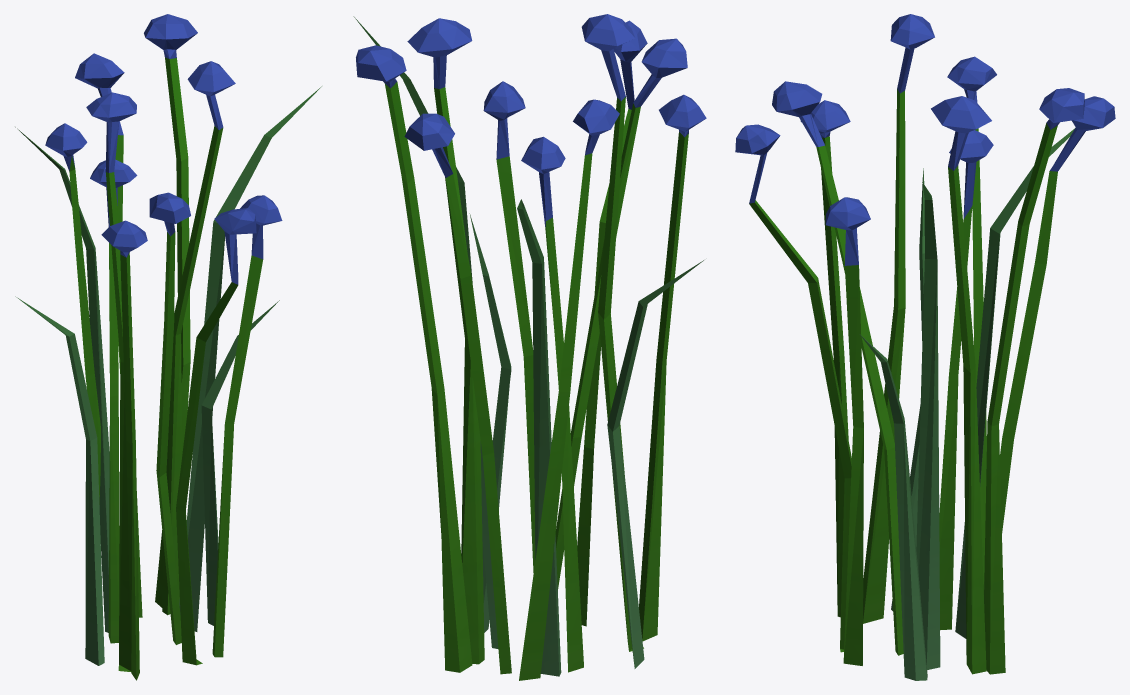
The model's file is flower_blue.glb.
The picture shows the model from 3 angles, left to right: view 1: azimuth 30°, elevation 25°; view 2: azimuth 150°, elevation 25°; view 3: azimuth 270°, elevation 25°; orthographic projection. The views are drawn at different scales.
Parts seen in each view (by area): view 1: flower_blue; view 2: flower_blue; view 3: flower_blue.
Part boxes in pixels (left/top/right/bottom): flower_blue: left=15, top=14, right=321, bottom=680; flower_blue: left=353, top=14, right=706, bottom=680; flower_blue: left=735, top=14, right=1115, bottom=680.
Bounding box in the file's own units: 0.2873 × 0.5 × 0.2836.
Materials: 1 (1 with a texture image).
